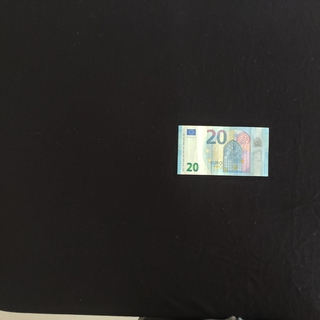20EUROFront: (177, 124, 269, 176)
